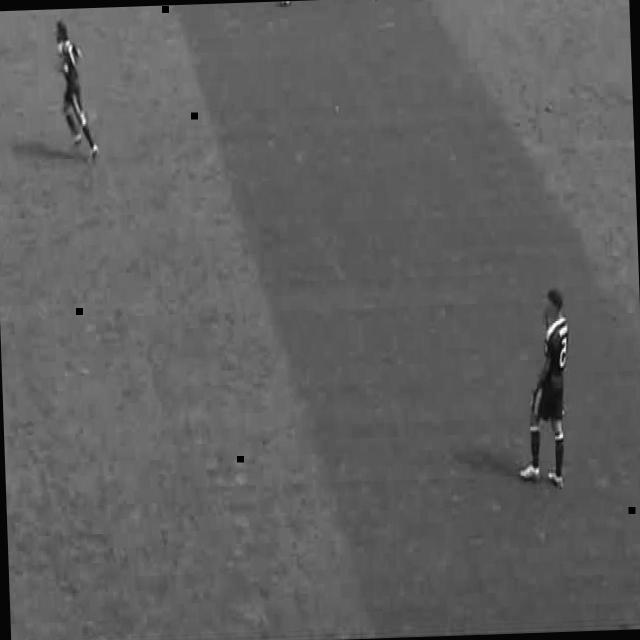ball: (280, 1, 292, 5)
player-white: (513, 287, 575, 493), (54, 15, 98, 159)
